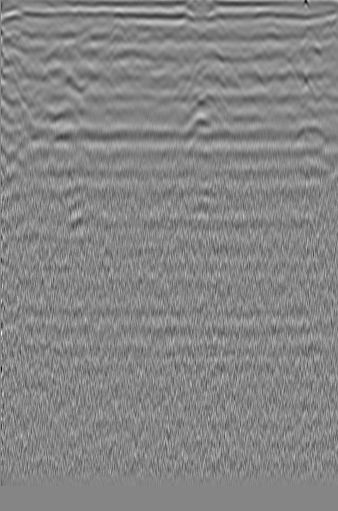상수: (291, 22, 324, 67)
오수: (1, 48, 30, 73)
우수: (151, 31, 185, 66)
